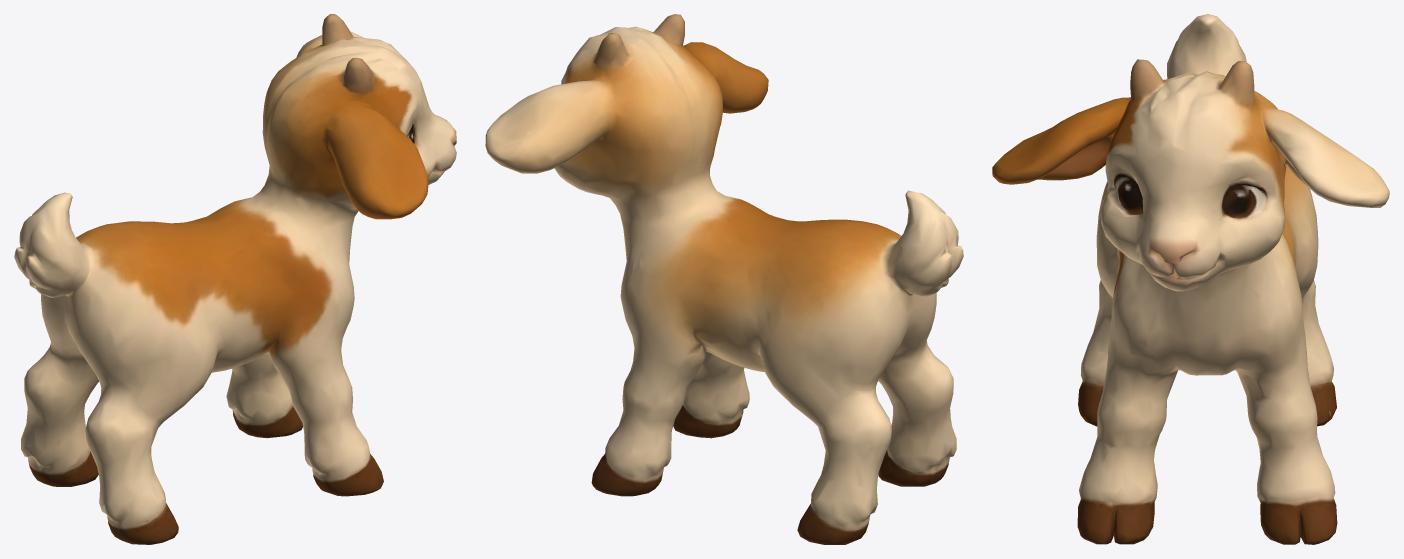
The model's file is kid.glb.
3 renders of one model, left to right at view 1: azimuth 30°, elevation 25°; view 2: azimuth 150°, elevation 25°; view 3: azimuth 270°, elevation 25°, orthographic. The views are drawn at different scales.
Visible parts, largest first — view 1: tripo_node_f94f52b4-11a9-452a-833a-e2a34ffae276; view 2: tripo_node_f94f52b4-11a9-452a-833a-e2a34ffae276; view 3: tripo_node_f94f52b4-11a9-452a-833a-e2a34ffae276.
Part boxes in pixels (box(x1,y1,x2,y2)): tripo_node_f94f52b4-11a9-452a-833a-e2a34ffae276: box(14, 14, 456, 544); tripo_node_f94f52b4-11a9-452a-833a-e2a34ffae276: box(485, 14, 963, 544); tripo_node_f94f52b4-11a9-452a-833a-e2a34ffae276: box(992, 14, 1389, 544).
Bounding box in the file's own units: 1 × 0.9595 × 0.7031.
1 material, 1 textured.
